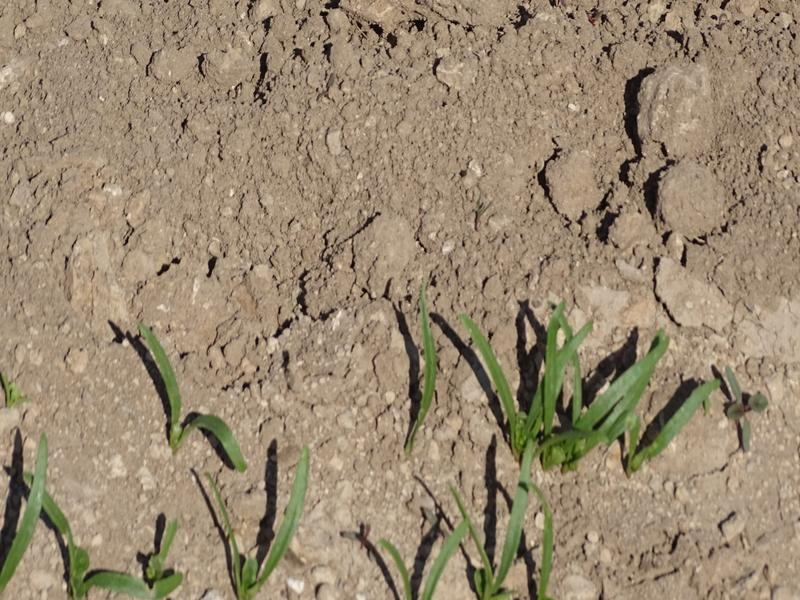Espinaca: (409, 279, 716, 466), (374, 477, 578, 597), (127, 321, 247, 465), (208, 451, 316, 592), (2, 437, 86, 597), (88, 511, 185, 600)
